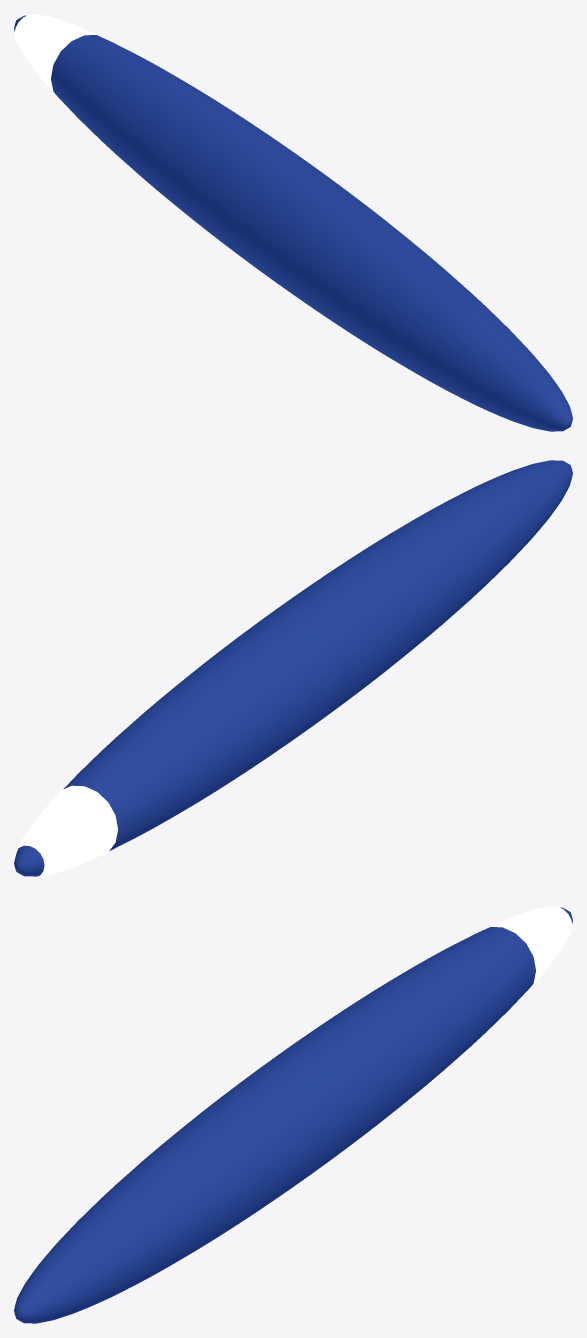
The model's file is chiles.gltf.
The picture shows the model from 3 angles, top to bottom: view 1: azimuth 30°, elevation 25°; view 2: azimuth 150°, elevation 25°; view 3: azimuth 330°, elevation 25°; orthographic projection.
Visible parts, largest first — view 1: hull, windshield; view 2: hull, windshield; view 3: hull, windshield.
Boxes of the visible parts, x1=… form: hull: x1=14, y1=15, x2=572, y2=431; windshield: x1=14, y1=14, x2=96, y2=99; hull: x1=14, y1=460, x2=572, y2=876; windshield: x1=16, y1=785, x2=117, y2=877; hull: x1=14, y1=907, x2=572, y2=1323; windshield: x1=490, y1=906, x2=572, y2=991.
Size of the model in its own units: 3.17 by 3.17 by 30.
